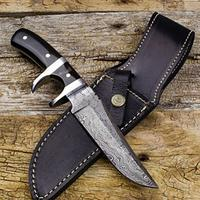knife: (8, 24, 162, 191)
